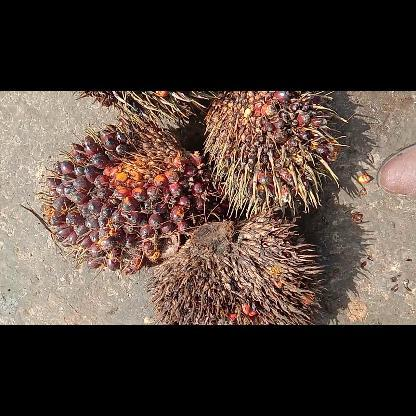TBS abnormal: (146, 218, 328, 324), (202, 90, 346, 220)
Terlalu masak: (33, 120, 206, 268)
